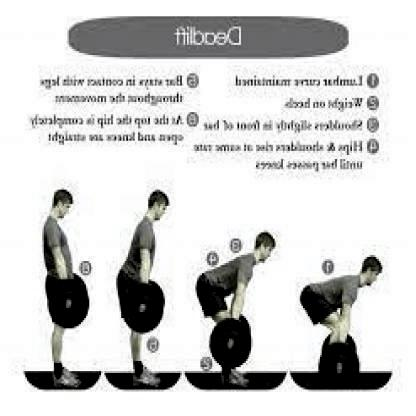Barbell: (329, 364, 343, 377), (61, 297, 73, 310), (134, 303, 145, 316), (224, 339, 234, 353)
